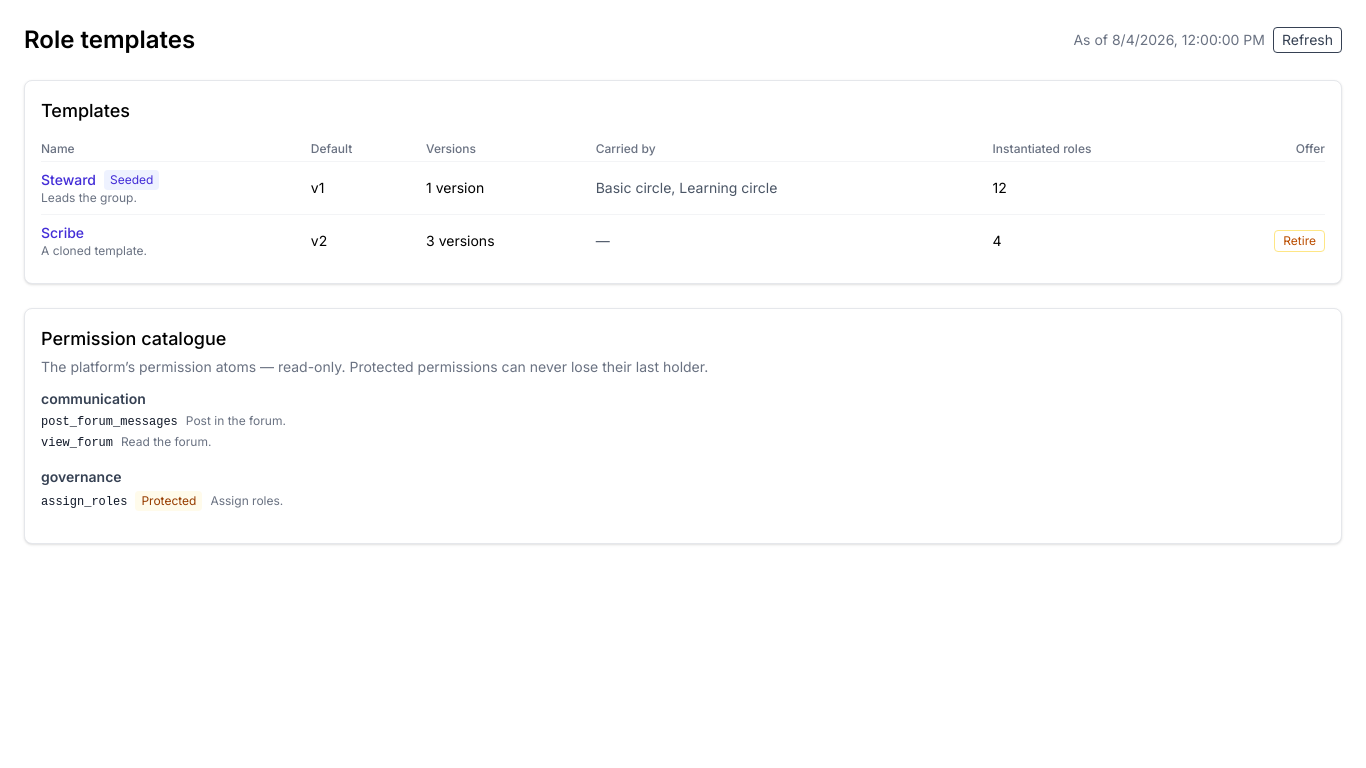
Test: AdminRolesView — retire / unretire (RD-A FEAT-H043 STORY-2) › renders a refusal verbatim and leaves the row as it was
Expected: the link "Steward" is shown, [41,170,96,190]
Step 1. Click the button "Retire" → (1300, 241), box [1274,230,1325,252]
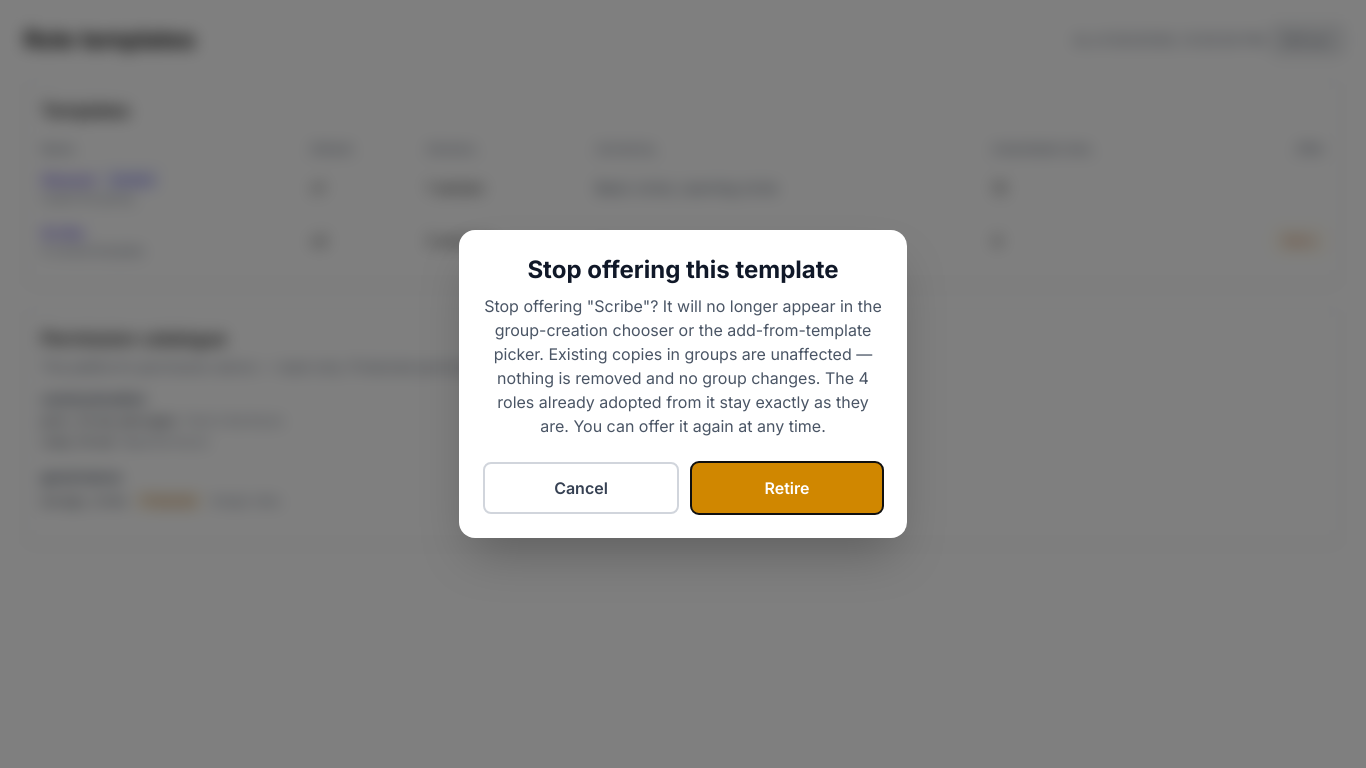
Step 2. Click the button with test id "confirm-modal-confirm" → (787, 488), box [691,462,883,514]
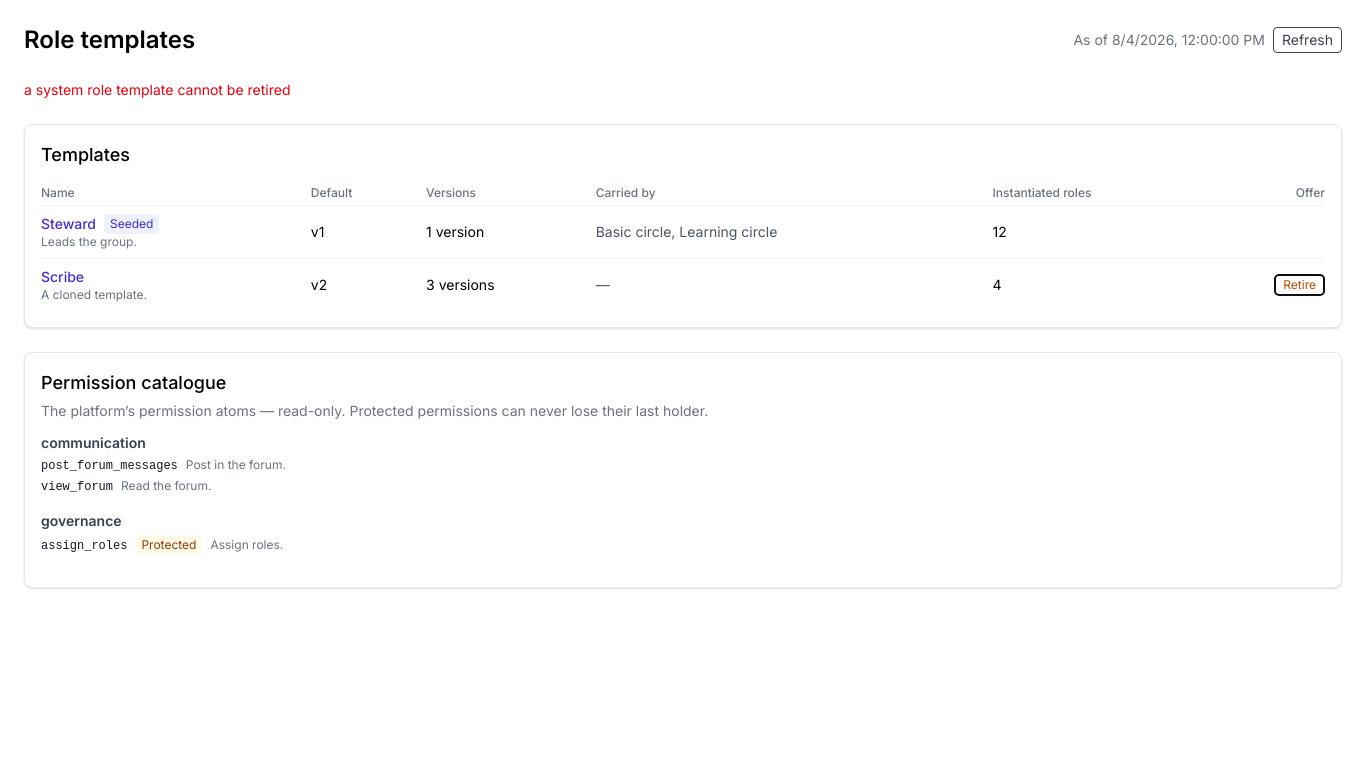
Expected: the message reads "a system role template cannot be retired", [24,81,290,98]
